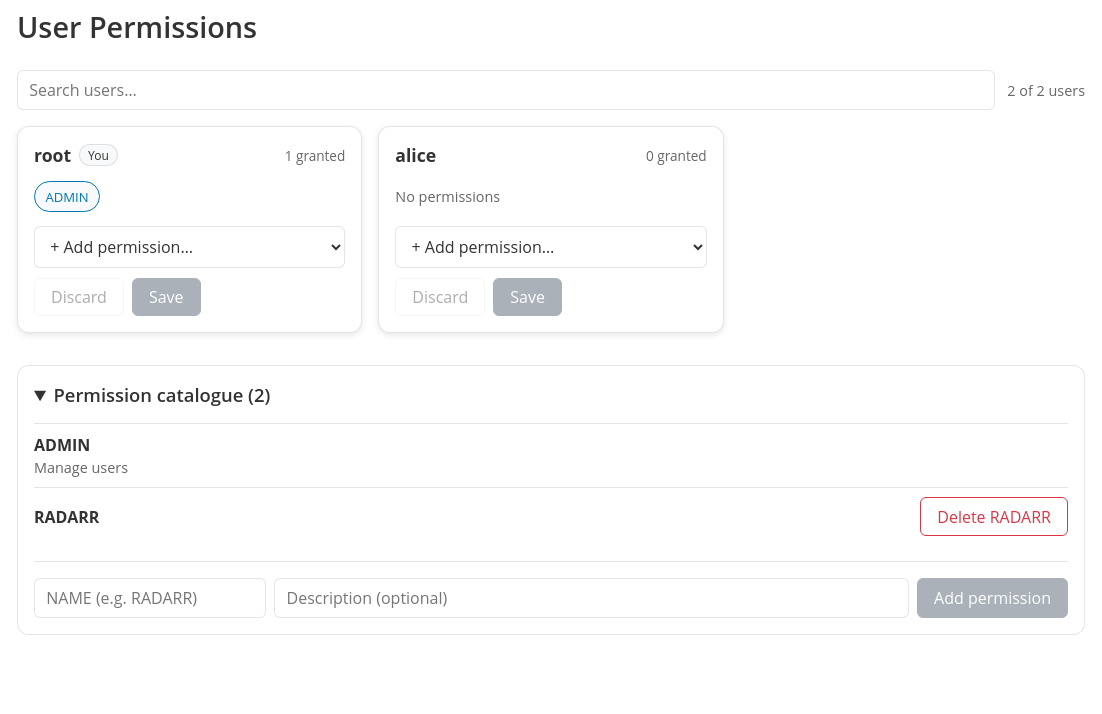
it: AdminUsers › saves changed permissions for a user
The width and height of the screenshot is (1102, 714).
Expected: the button "Save" below "root" is disabled, [132, 278, 201, 316]
Select "RADARR" in the dropdown named "Add permission to alice" at {"x": 551, "y": 247}, box [395, 226, 707, 268]
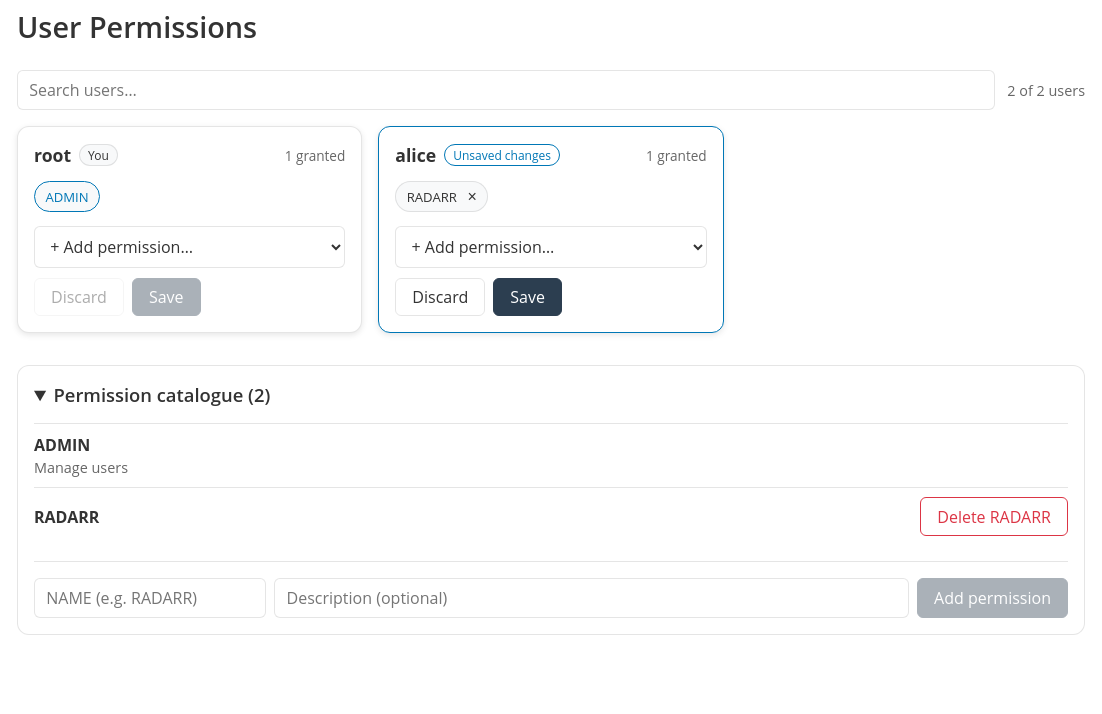
Now the text "Unsaved changes" is shown, box [444, 144, 560, 166]
Click the button "Save" below "alice" at {"x": 528, "y": 297}, box [493, 278, 562, 316]
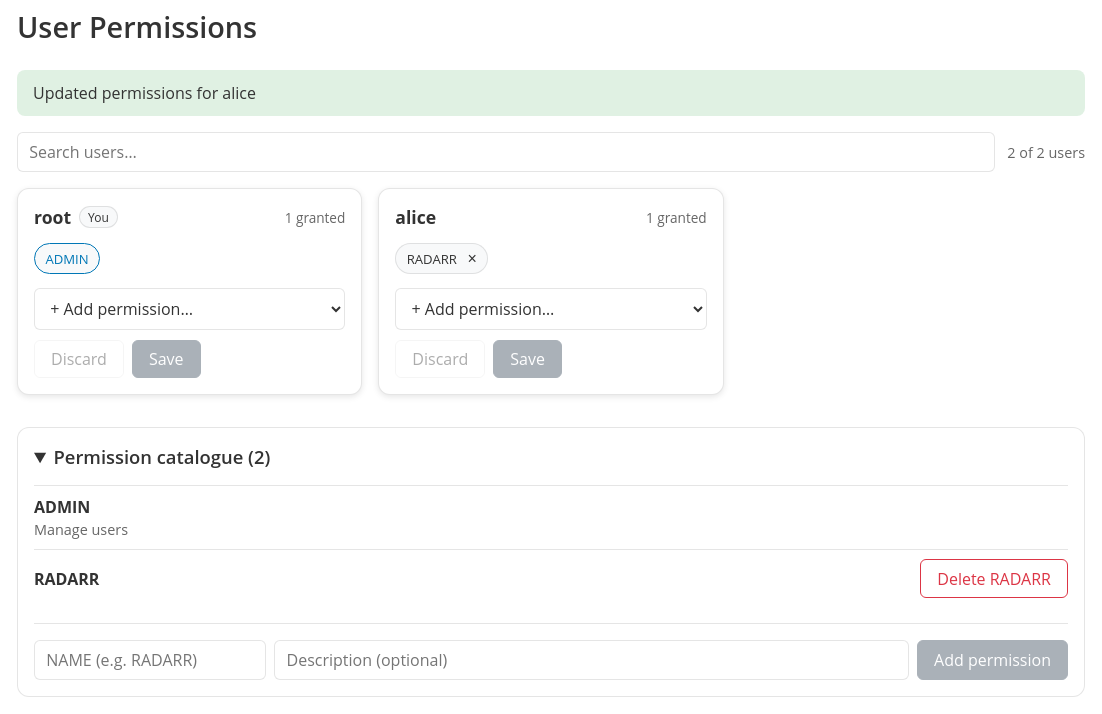
Now the text "Updated permissions for alice" is shown, box [17, 70, 1085, 116]
Now the text "Unsaved changes" is gone
